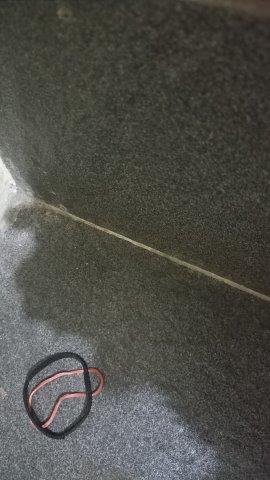karet: (23, 353, 104, 439)
